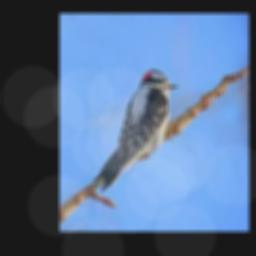Woodpecker: (93, 69, 178, 191)
